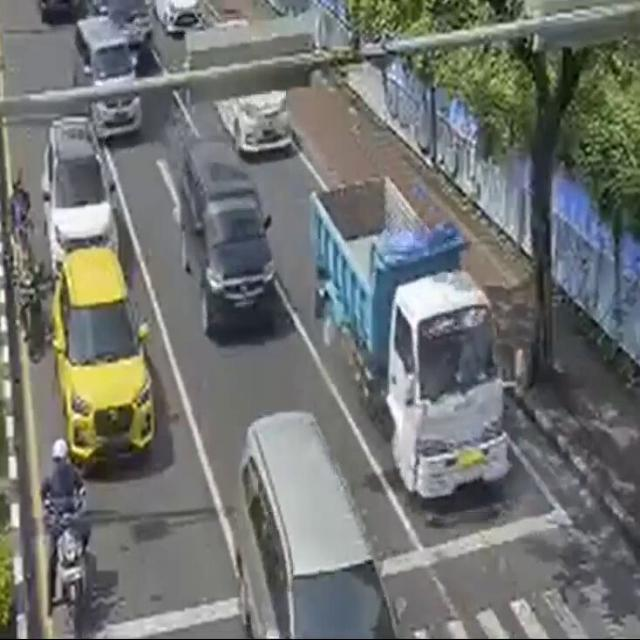car: (214, 396, 396, 640), (49, 267, 157, 457), (177, 144, 275, 332), (36, 116, 132, 260)
motorbike: (36, 442, 95, 640), (13, 250, 38, 349), (7, 167, 9, 174)
truck: (312, 155, 523, 505)
